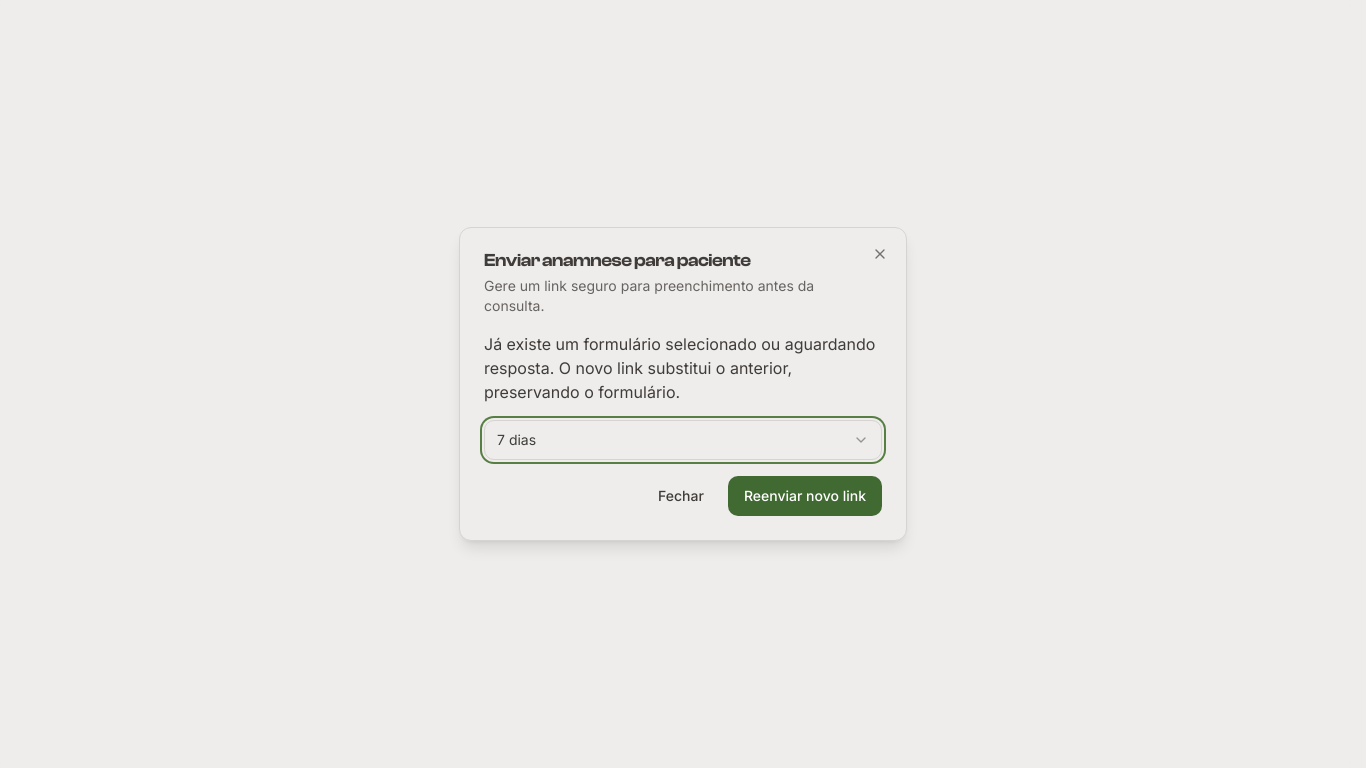
Test case: does not issue a second link while the first request is unconfirmed
Click the button "Reenviar novo link": x=805, y=496 [728, 476, 882, 516]
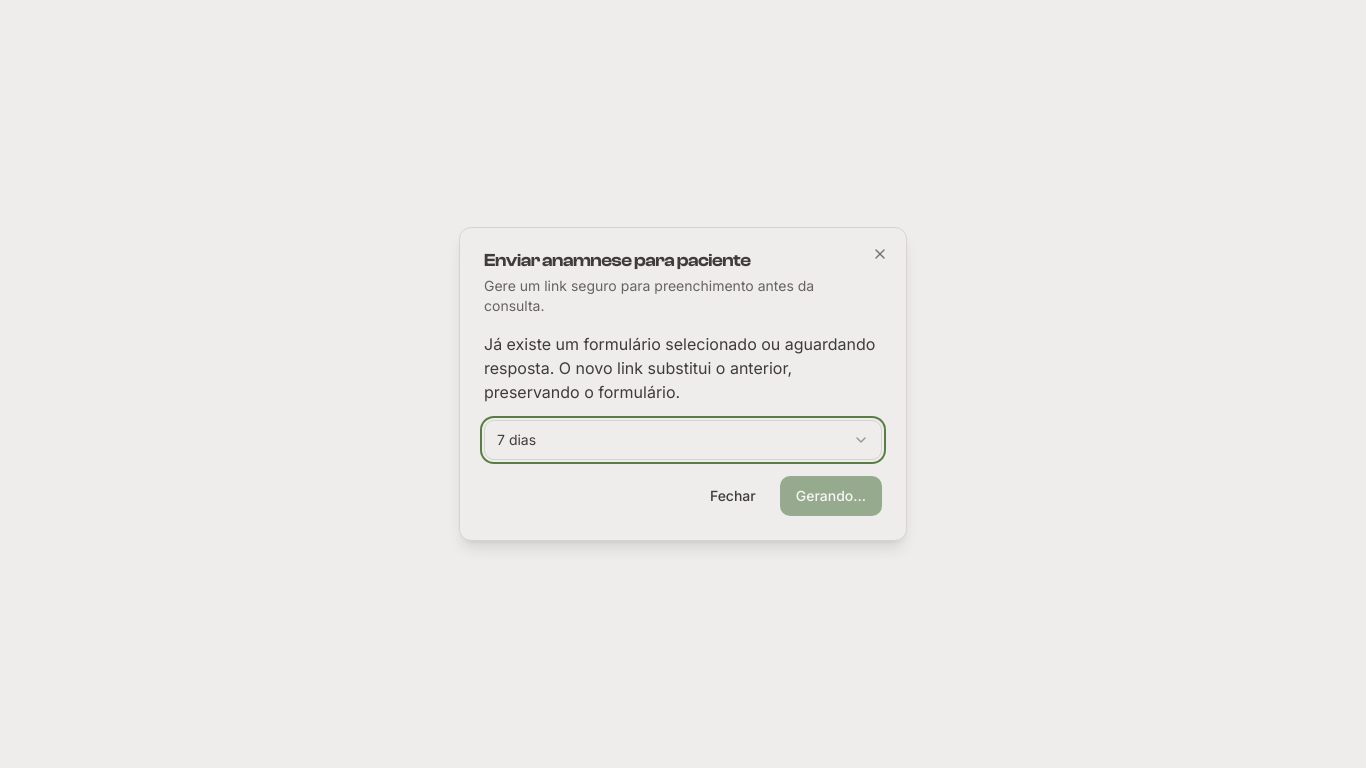
Click the button named "Reenviar novo link": x=831, y=496 [780, 476, 882, 516]
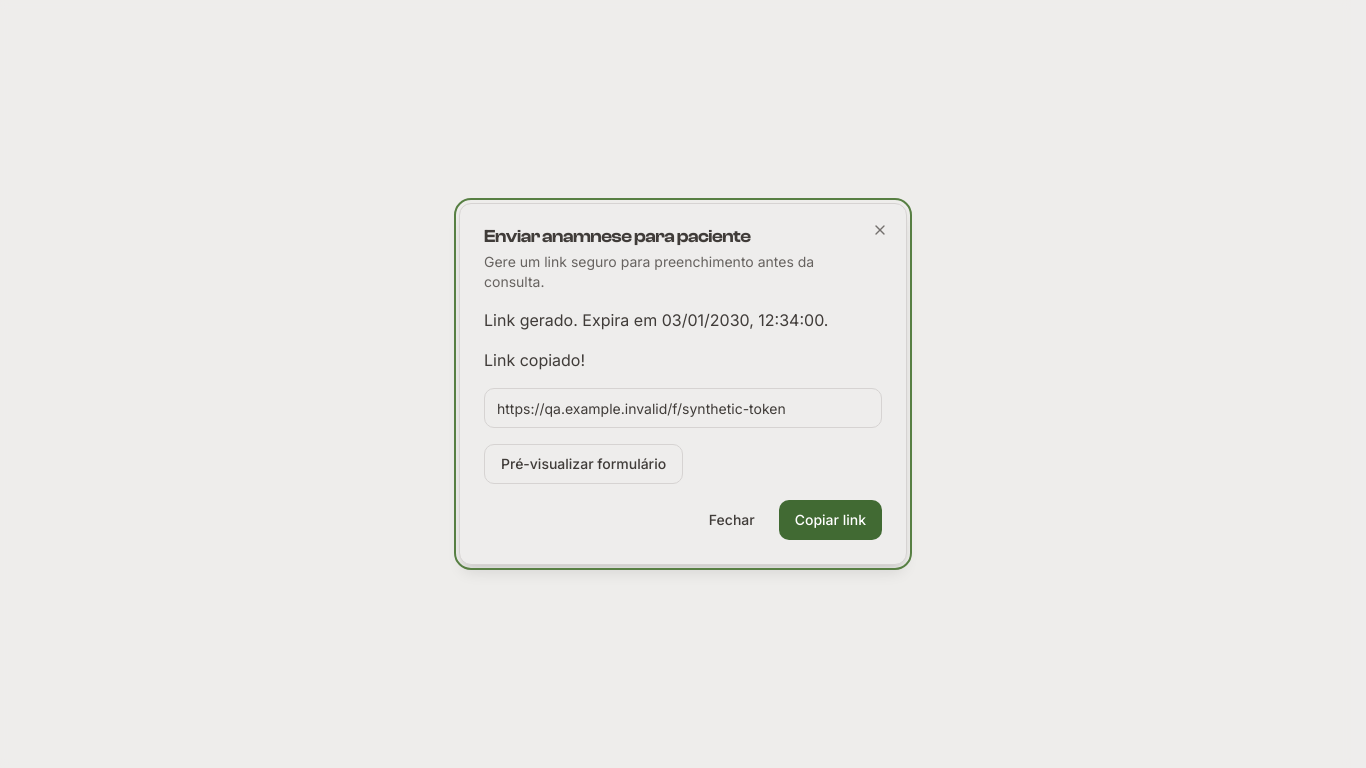
Now the field named "Link do formulário" is shown, box [484, 388, 882, 428]
